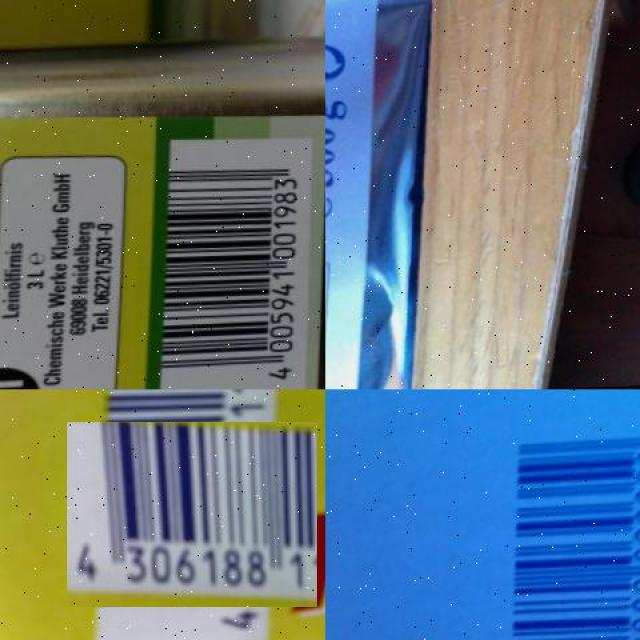Barcode: (82, 406, 301, 623), (161, 135, 319, 389), (478, 408, 640, 640)
